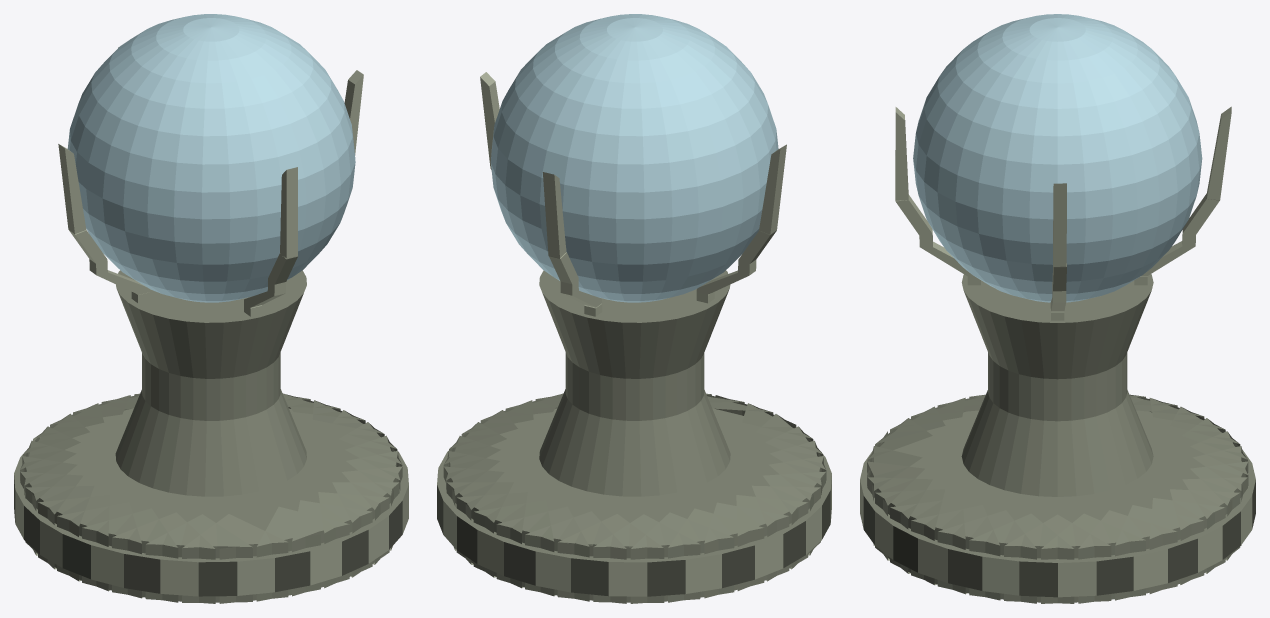
File: crystal.glb
3 renders of one model, left to right at view 1: azimuth 30°, elevation 25°; view 2: azimuth 150°, elevation 25°; view 3: azimuth 270°, elevation 25°, orthographic.
Visible parts, largest first — view 1: Cylinder; view 2: Cylinder; view 3: Cylinder.
Part boxes in pixels (<box>): Cylinder: <box>14,14,408,603</box>; Cylinder: <box>437,14,831,603</box>; Cylinder: <box>860,14,1255,603</box>.
Size of the model in its own units: 2.1 by 2.96 by 2.1.
